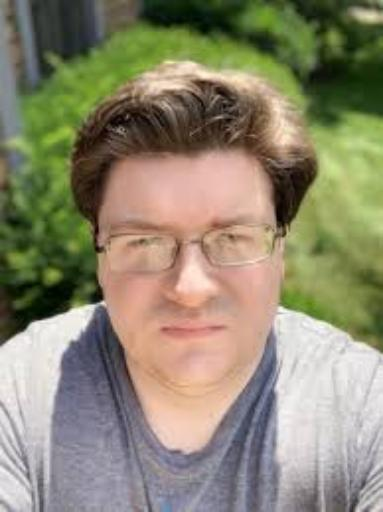left_eye: (216, 231, 256, 250)
left_lip_corner: (216, 321, 234, 338)
right_eye: (121, 238, 165, 258)
right_lip_corner: (156, 322, 173, 341)
